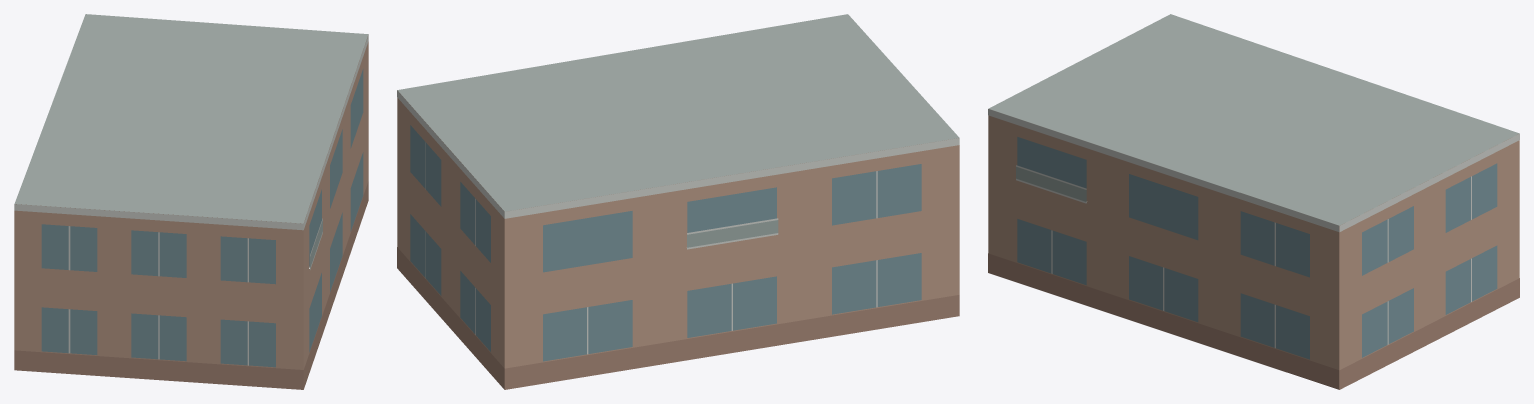
File: survey-upis-32855234.glb
3 renders of one model, left to right at view 1: azimuth 30°, elevation 25°; view 2: azimuth 150°, elevation 25°; view 3: azimuth 270°, elevation 25°, orthographic. The views are drawn at different scales.
Visible parts, largest first — view 1: survey-upis-32855234.tmp; view 2: survey-upis-32855234.tmp; view 3: survey-upis-32855234.tmp.
Part boxes in pixels (bbox=[...]): survey-upis-32855234.tmp: bbox=[14, 14, 368, 389]; survey-upis-32855234.tmp: bbox=[397, 14, 959, 389]; survey-upis-32855234.tmp: bbox=[988, 14, 1519, 389].
Bounding box in the file's own units: 16.88 × 6.1 × 17.91.
